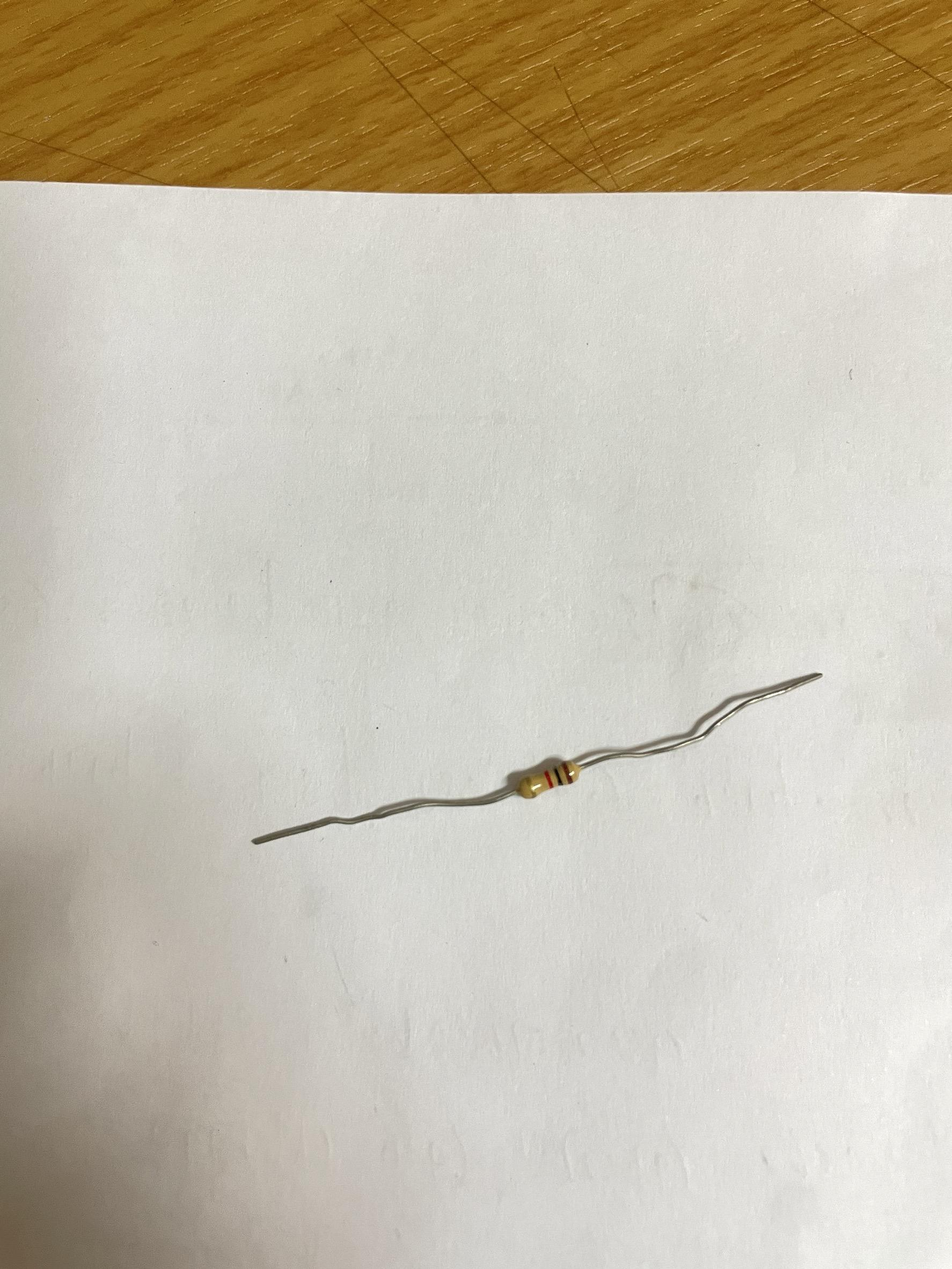resistor: (512, 755, 574, 798)
